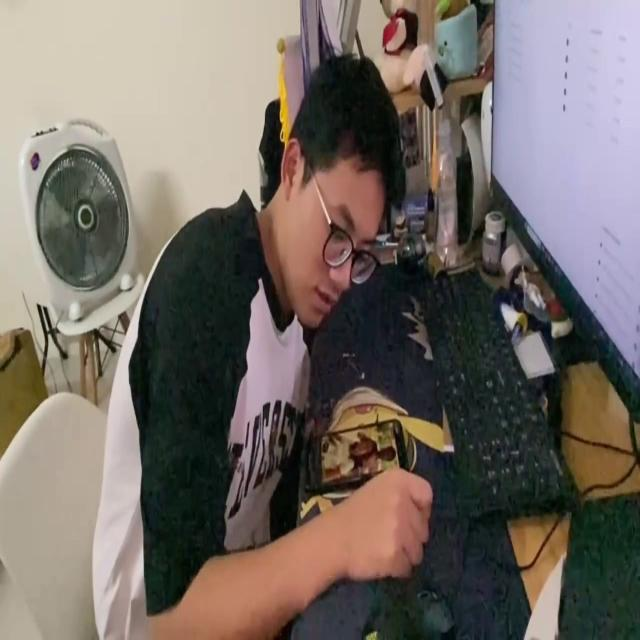laptop: (489, 0, 640, 422)
phone: (306, 416, 412, 492)
student: (91, 48, 436, 640)
